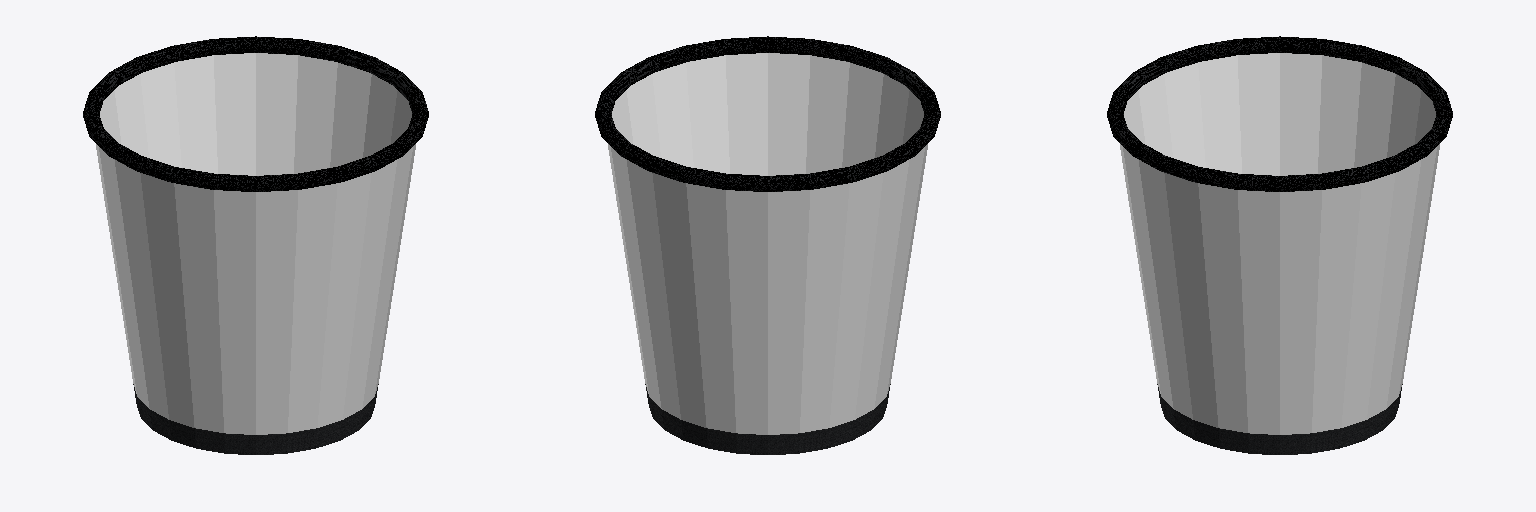
The picture shows the model from 3 angles: view 1: azimuth 30°, elevation 25°; view 2: azimuth 150°, elevation 25°; view 3: azimuth 270°, elevation 25°; orthographic projection.
Visible parts, largest first — view 1: mesh1_mesh1-geometry, mesh2_mesh2-geometry; view 2: mesh1_mesh1-geometry, mesh2_mesh2-geometry; view 3: mesh1_mesh1-geometry, mesh2_mesh2-geometry.
Part boxes in pixels (left/top/right/bottom): mesh1_mesh1-geometry: left=96, top=53, right=415, bottom=454; mesh2_mesh2-geometry: left=83, top=36, right=428, bottom=191; mesh1_mesh1-geometry: left=608, top=53, right=927, bottom=454; mesh2_mesh2-geometry: left=595, top=36, right=940, bottom=191; mesh1_mesh1-geometry: left=1120, top=53, right=1439, bottom=454; mesh2_mesh2-geometry: left=1107, top=36, right=1452, bottom=191.
Size of the model in its own units: 0.5871 by 0.5572 by 0.5871.
Materials: 4 (1 with a texture image).